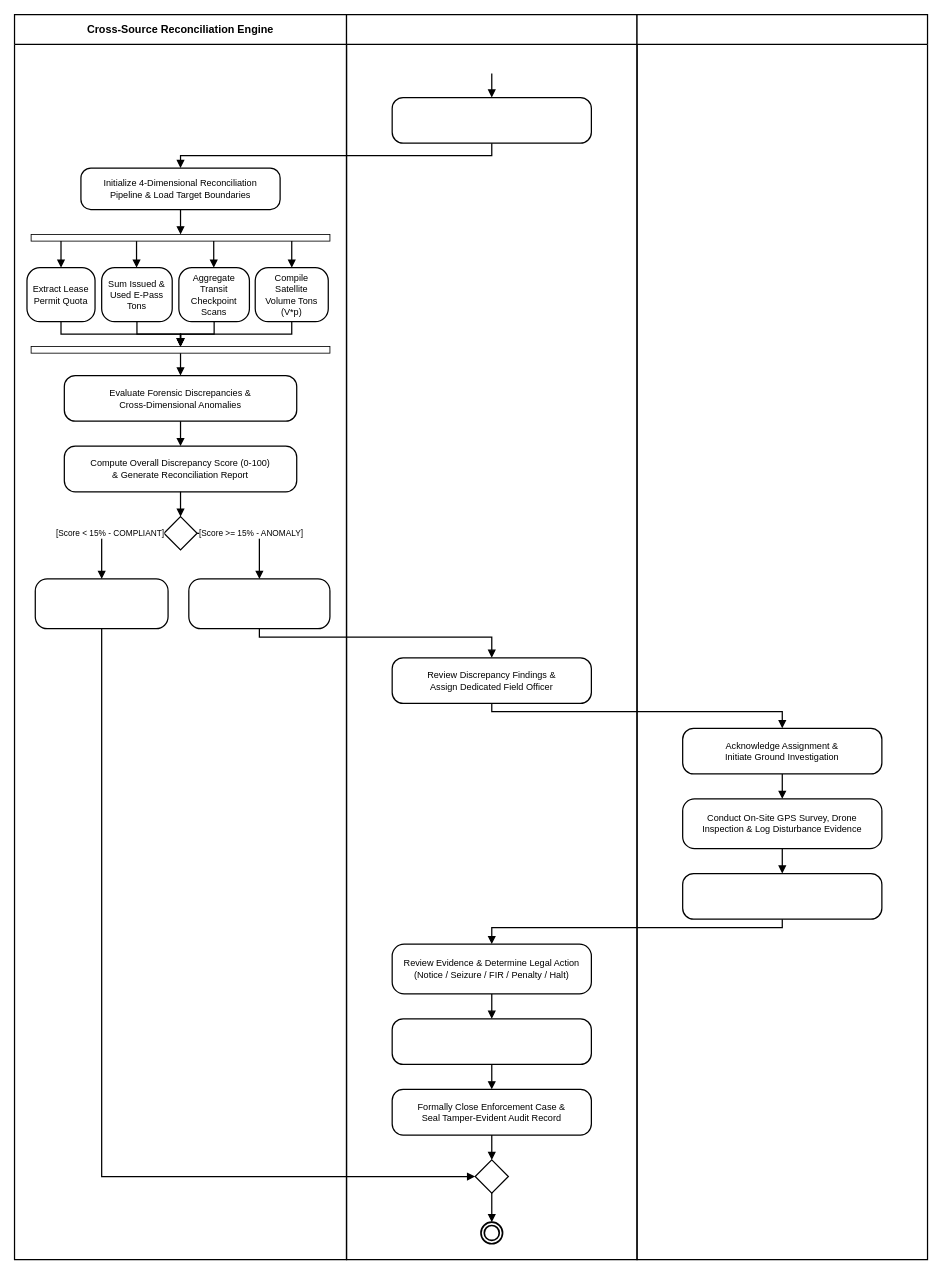
This 943x1275 diagram has some shape labels left out. Each missing label, with the box of its shape:
Archive Report as COMPLIANT & Record Verification Audit Trail: (34, 578, 168, 629)
Field Investigation Officer: (636, 14, 928, 1260)
Forest / Mining Officer (Enforcement Admin): (346, 14, 637, 1260)
Initiate Multi-Source Reconciliation for Monitored Zone & Date Window: (391, 97, 592, 143)
Issue Official Enforcement Order & Transition Status to RESOLVED: (391, 1018, 592, 1065)
Spawn Enforcement Case with Anomaly Classification (Status: CASE_CREATED): (188, 578, 330, 629)
Submit Field Verification Report & Corroborating Photographic Evidence: (682, 873, 882, 919)
